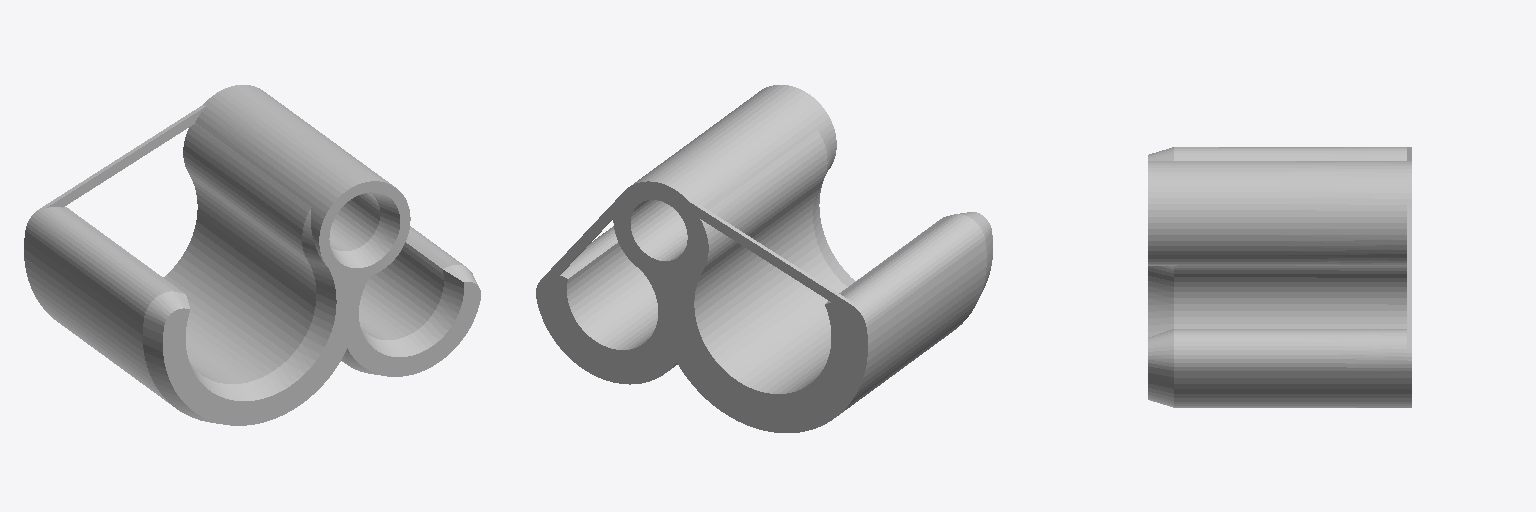
Rendered from Clip+Wire.obj.
The picture shows the model from 3 angles: view 1: azimuth 30°, elevation 25°; view 2: azimuth 150°, elevation 25°; view 3: azimuth 270°, elevation 25°; orthographic projection.
Bounding box in the file's own units: 14.53 × 9.31 × 10.01.